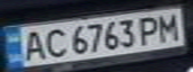3: (118, 17, 139, 48)
6: (66, 22, 90, 55), (103, 18, 124, 51)
7: (84, 20, 106, 53)
A: (18, 28, 48, 62)
C: (39, 26, 69, 60)
M: (154, 10, 184, 43)
P: (133, 14, 163, 45)
